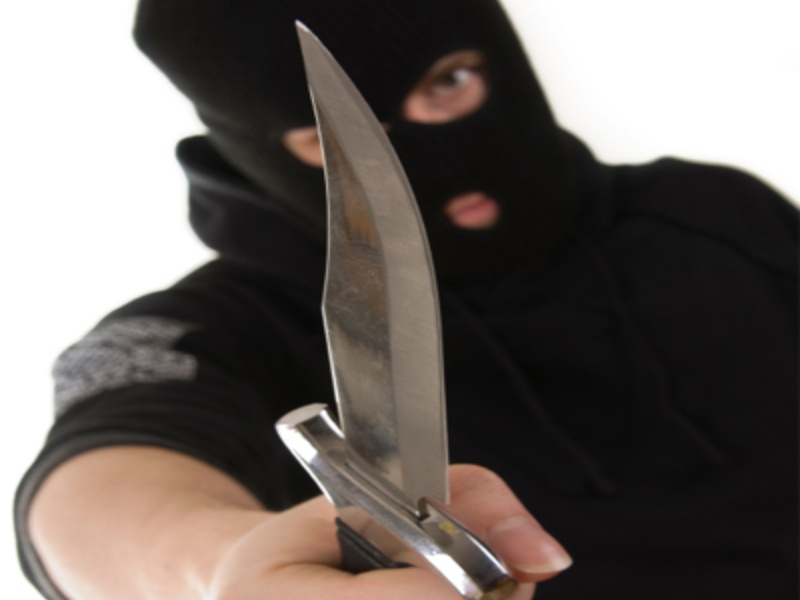balaclava: (131, 1, 599, 273)
hand: (210, 451, 578, 600)
knife: (274, 15, 518, 586)
person: (12, 1, 800, 600)
